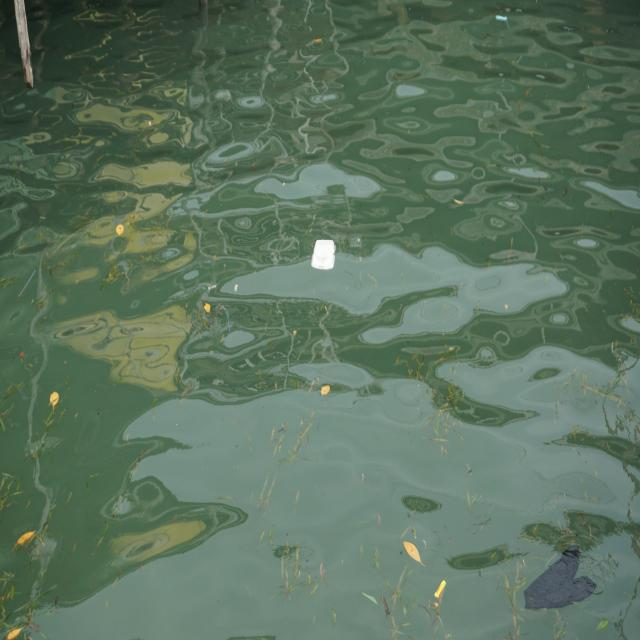Bungkus Makanan: (309, 232, 342, 279)
Kantong Plastik: (524, 543, 600, 619)
